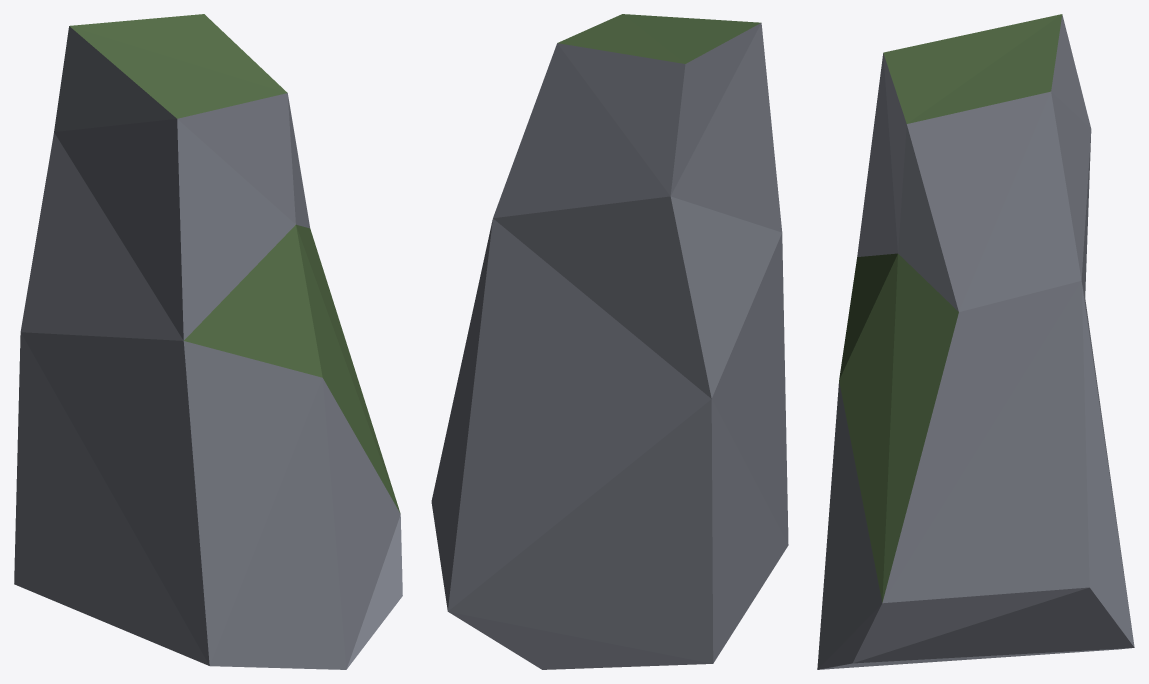
Rendered from Rock_Moss_1.lod1.glb.
The picture shows the model from 3 angles, left to right: view 1: azimuth 30°, elevation 25°; view 2: azimuth 150°, elevation 25°; view 3: azimuth 270°, elevation 25°; orthographic projection. The views are drawn at different scales.
Parts seen in each view (by area): view 1: Rock_Moss_1; view 2: Rock_Moss_1; view 3: Rock_Moss_1.
Boxes of the visible parts, x1,y1,x2,y2 form: Rock_Moss_1: (14,14,402,669); Rock_Moss_1: (431,14,788,669); Rock_Moss_1: (817,14,1134,669).
Size of the model in its own units: 0.4731 by 0.9496 by 0.4687.
